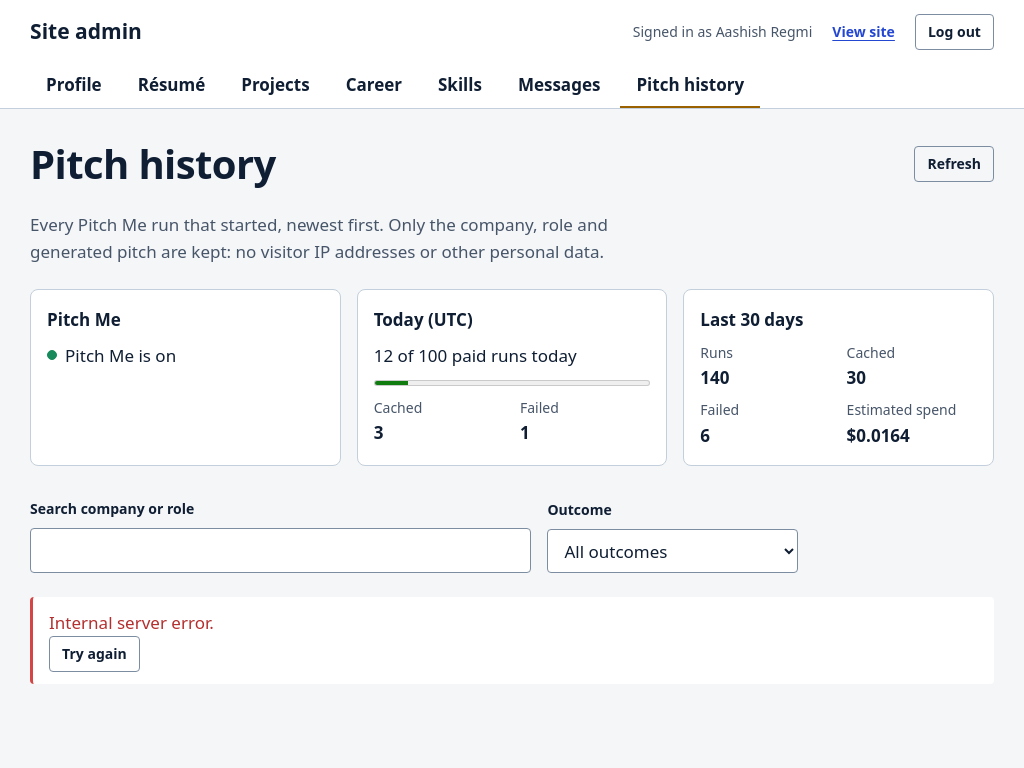
Test case: Pitch history: list › shows the error with a retry that reloads
Expected: the message shows "Internal server error.", [49,611,214,634]
Click the button "Try again". click: (94, 654)
box: [49,636,140,672]
(page scrolled)
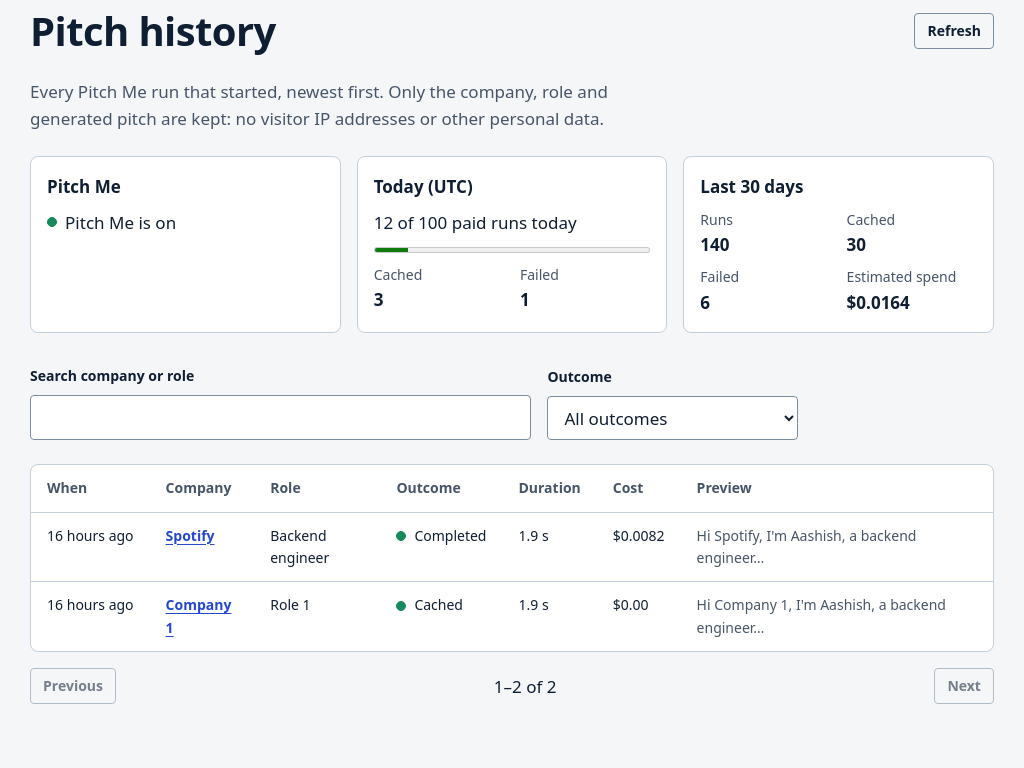
Expected: the table is shown, [31,465,993,651]
